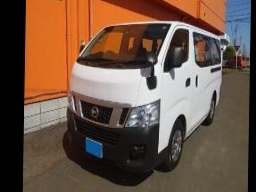van: (64, 18, 223, 180)
